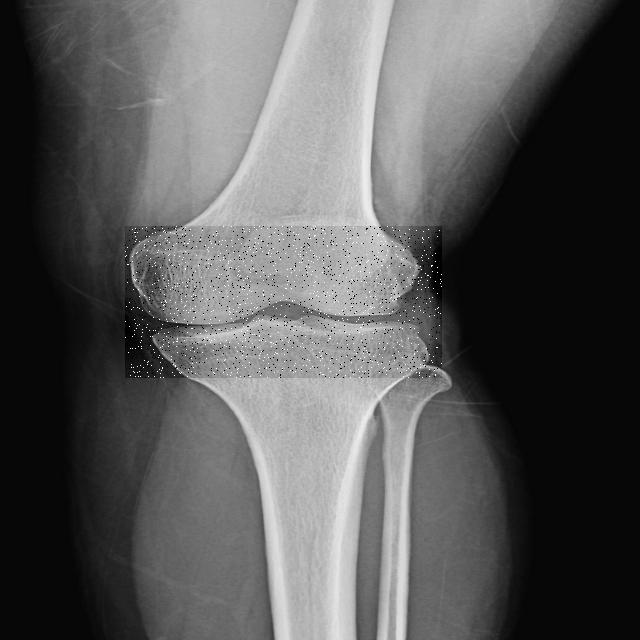osteo: (125, 226, 442, 378)
